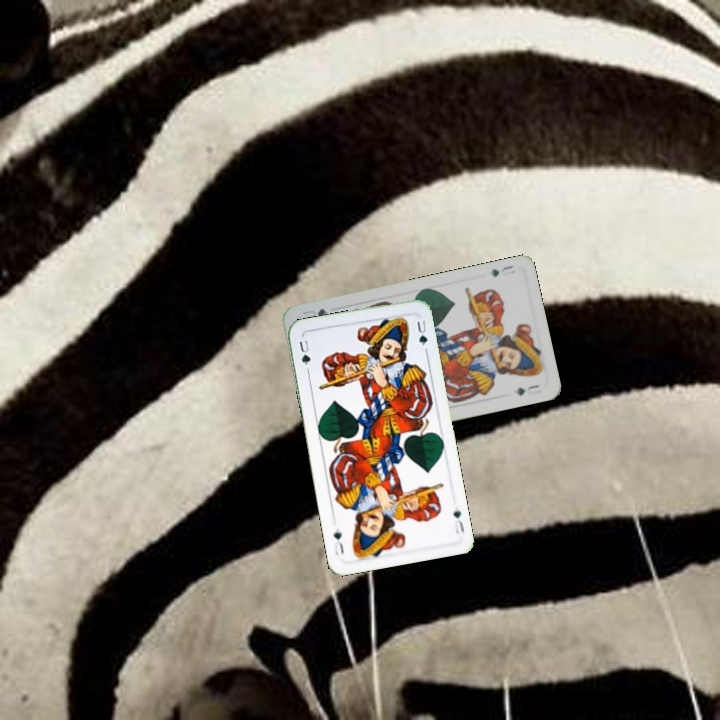GU: (449, 503, 467, 536), (295, 336, 313, 368), (488, 261, 516, 279)
